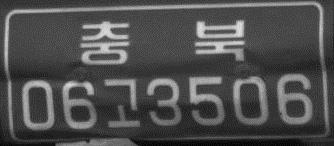0: (231, 71, 270, 129), (20, 76, 56, 132)
3: (145, 75, 184, 127)
5: (185, 73, 226, 127)
6: (276, 70, 314, 127), (60, 75, 97, 132)
고: (101, 75, 143, 130)
충북_D: (77, 16, 250, 69)
